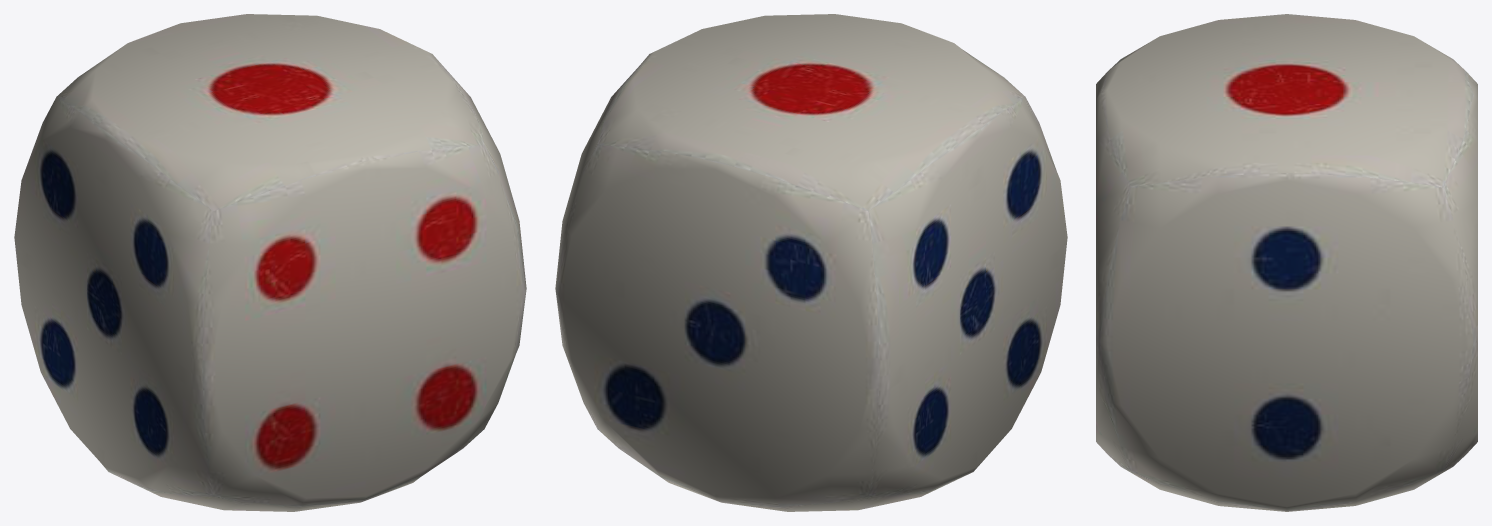
The model's file is dice.glb.
The picture shows the model from 3 angles, left to right: view 1: azimuth 30°, elevation 25°; view 2: azimuth 150°, elevation 25°; view 3: azimuth 270°, elevation 25°; orthographic projection.
Visible parts, largest first — view 1: dice; view 2: dice; view 3: dice.
Boxes of the visible parts, x1,y1,x2,y2 form: dice: (14, 14, 526, 511); dice: (555, 14, 1067, 511); dice: (1096, 14, 1477, 511).
Size of the model in its own units: 0.6667 by 0.6667 by 0.6667.
1 material, 1 textured.
